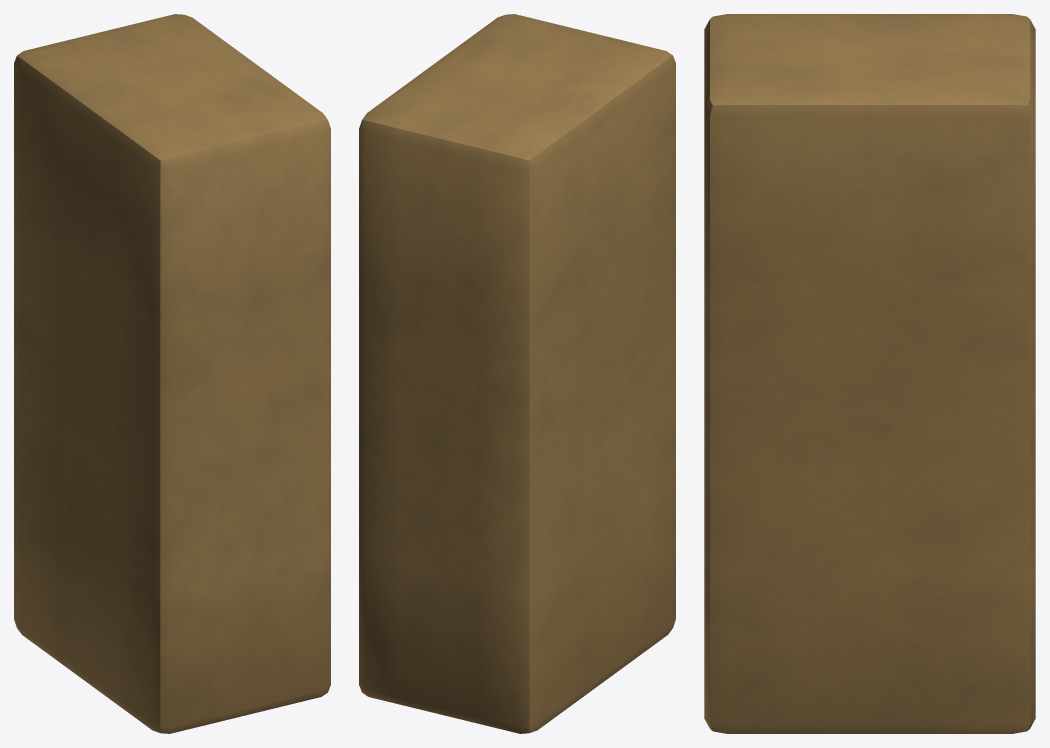
The model's file is Platform Tall.fbx.
3 views of the same model, side by side, from view 1: azimuth 30°, elevation 25°; view 2: azimuth 150°, elevation 25°; view 3: azimuth 270°, elevation 25° (orthographic). The views are drawn at different scales.
Visible parts, largest first — view 1: PlatformTall; view 2: PlatformTall; view 3: PlatformTall.
Boxes of the visible parts, bbox=[...] form: PlatformTall: bbox=[14, 14, 330, 733]; PlatformTall: bbox=[359, 14, 675, 733]; PlatformTall: bbox=[704, 14, 1035, 733].
Size of the model in its own units: 25 by 37.19 by 78.75.
